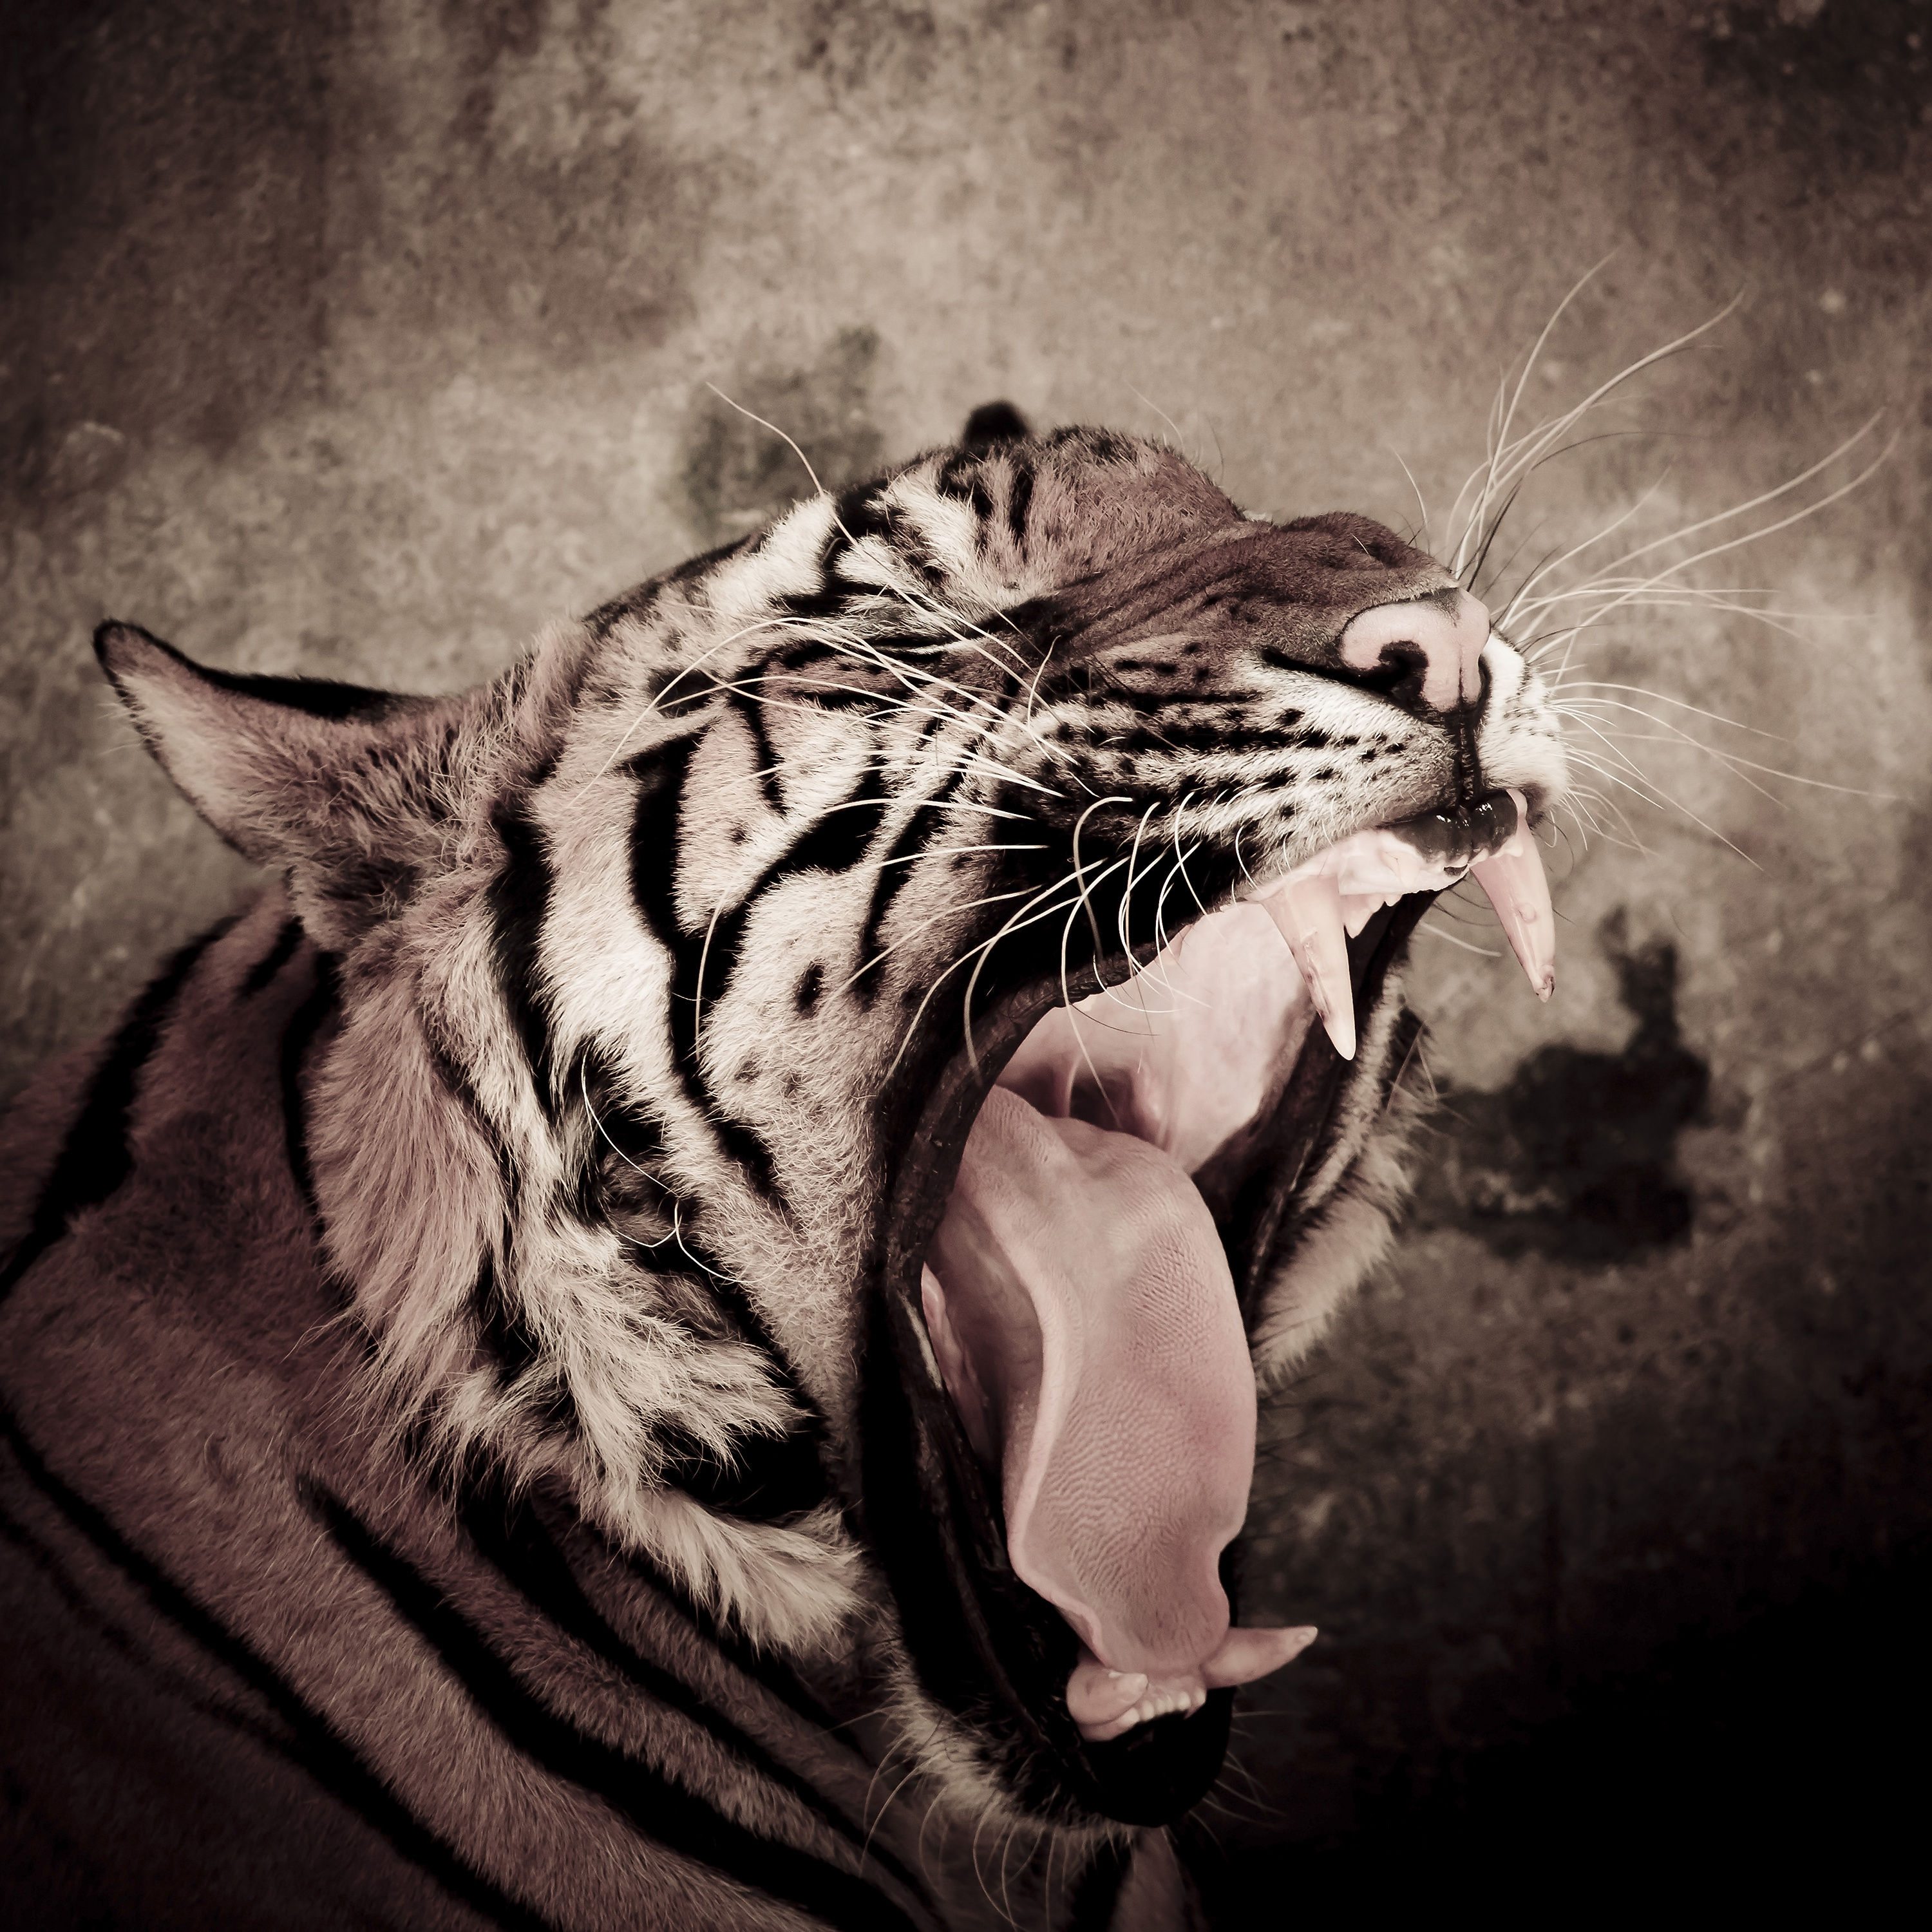tiger: (103, 398, 1555, 1882)
